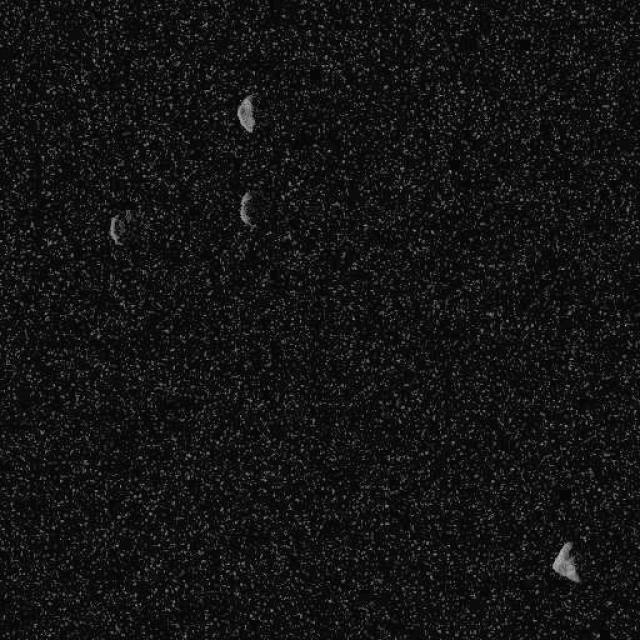D2: (550, 540, 581, 584), (235, 92, 256, 132), (237, 190, 255, 226), (108, 212, 124, 246)
